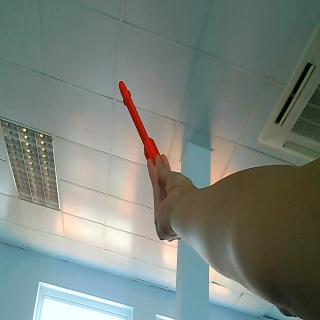Rocket: (118, 78, 156, 164)
